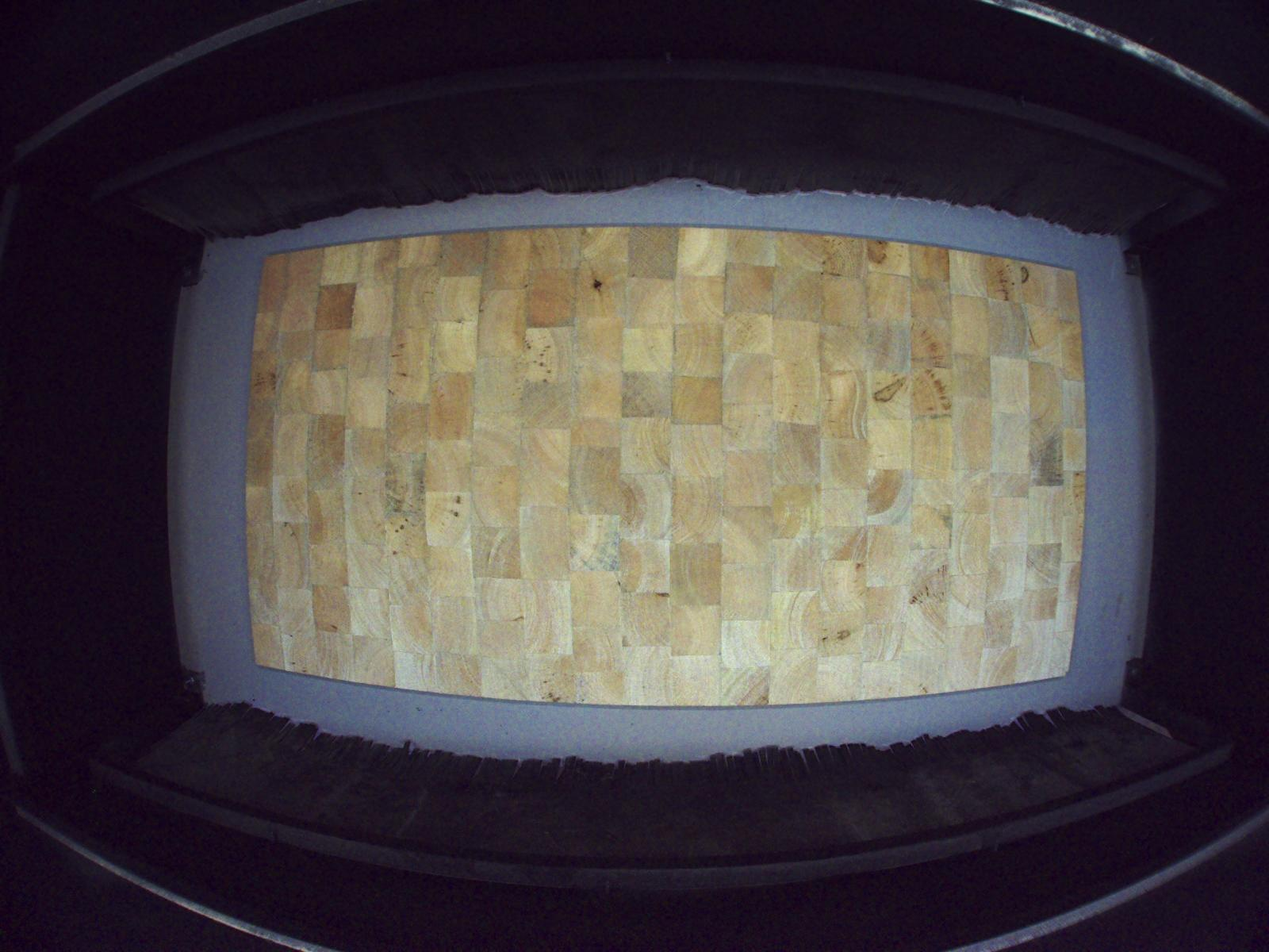nudillo: (592, 277, 604, 293)
